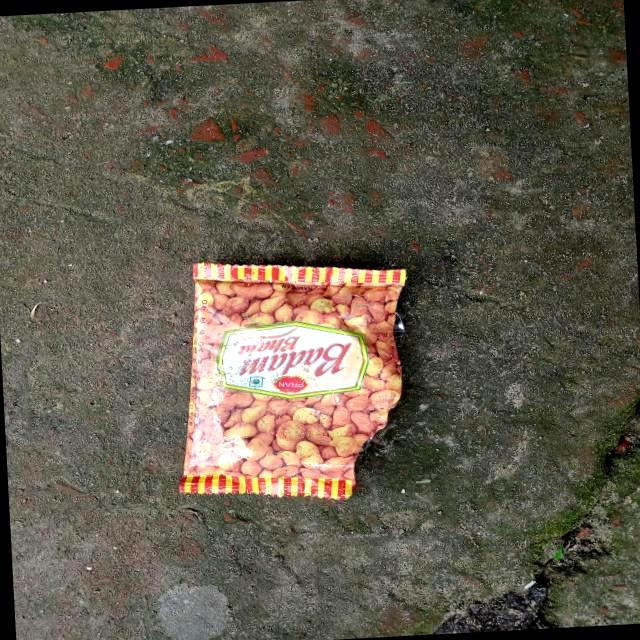packet: (182, 257, 411, 504)
